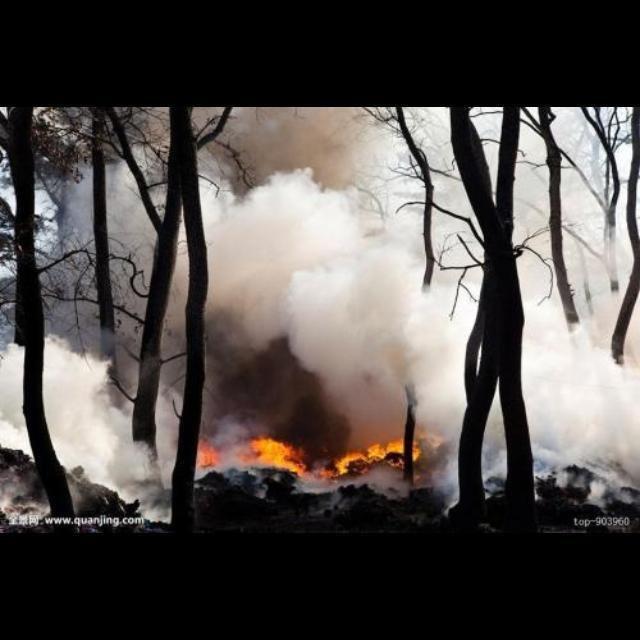Fire: (334, 436, 422, 476), (248, 432, 306, 478), (200, 442, 222, 468)
Smoke: (1, 108, 638, 524)
